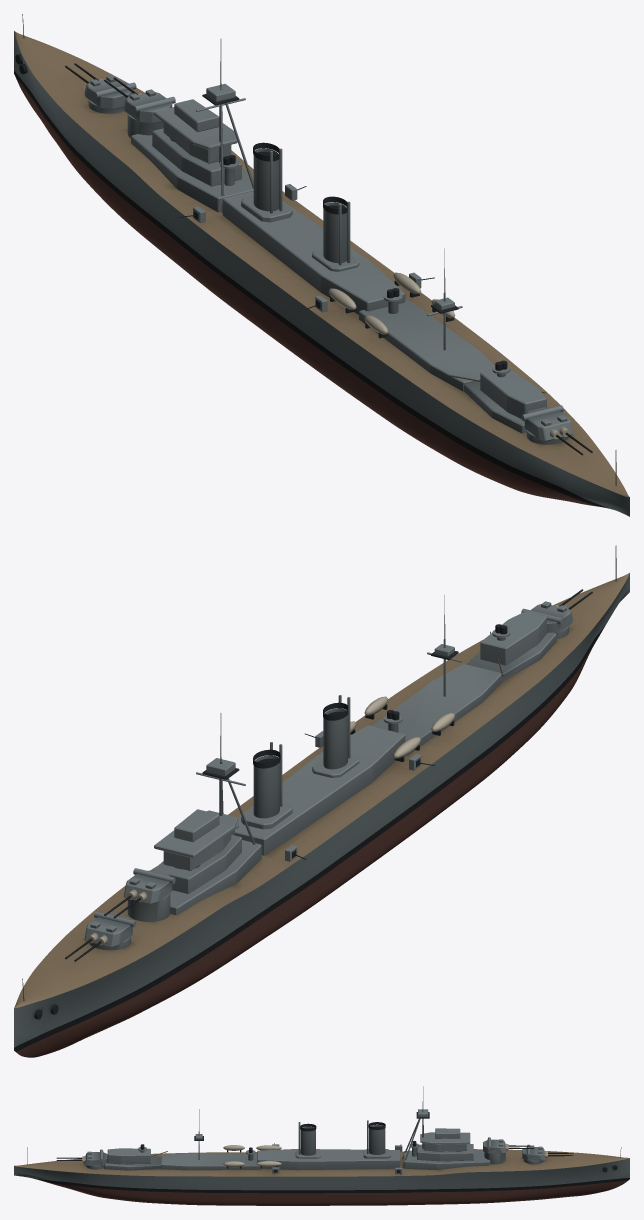
The model's file is kinugasa.glb.
3 renders of one model, top to bottom at view 1: azimuth 30°, elevation 25°; view 2: azimuth 150°, elevation 25°; view 3: azimuth 270°, elevation 25°, orthographic. The views are drawn at different scales.
Visible parts, largest first — view 1: kinugasa; view 2: kinugasa; view 3: kinugasa.
Boxes of the visible parts, bbox=[...] form: kinugasa: bbox=[14, 14, 629, 516]; kinugasa: bbox=[14, 545, 629, 1057]; kinugasa: bbox=[14, 1086, 629, 1205].
Bounding box in the file's own units: 22.59 × 36.66 × 185.
